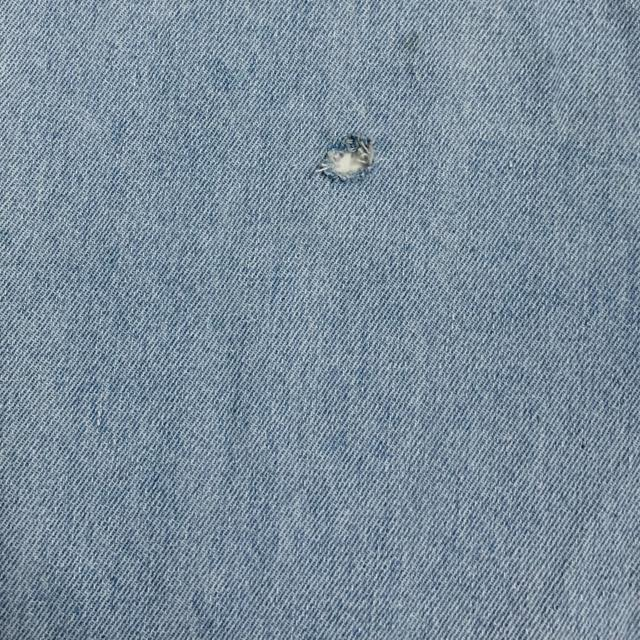other: (278, 118, 424, 222)
